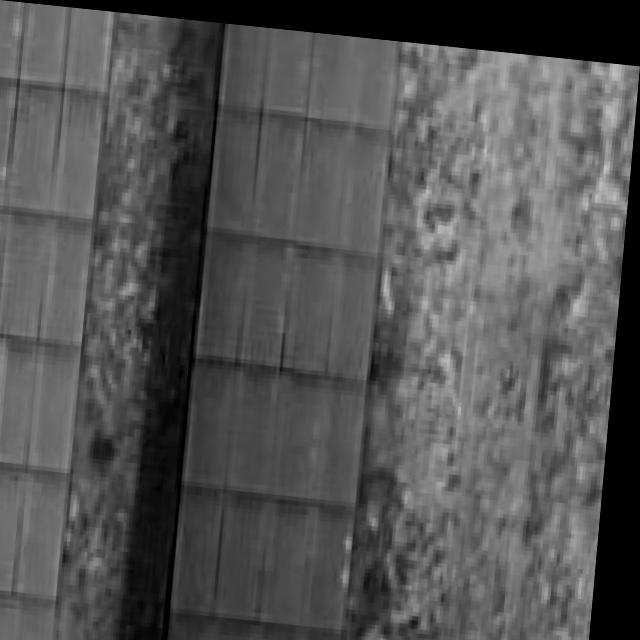Hotspot: (172, 23, 400, 640), (0, 0, 118, 640)
